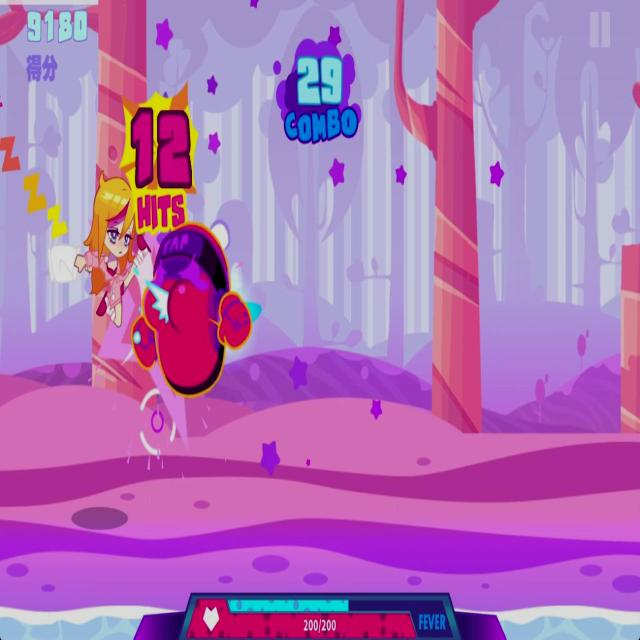tapboss: (130, 208, 256, 408)
